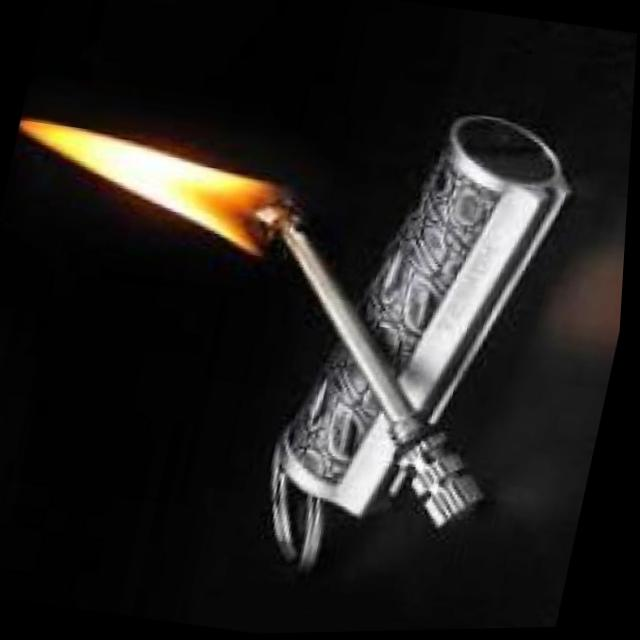Fire: (0, 112, 305, 261)
